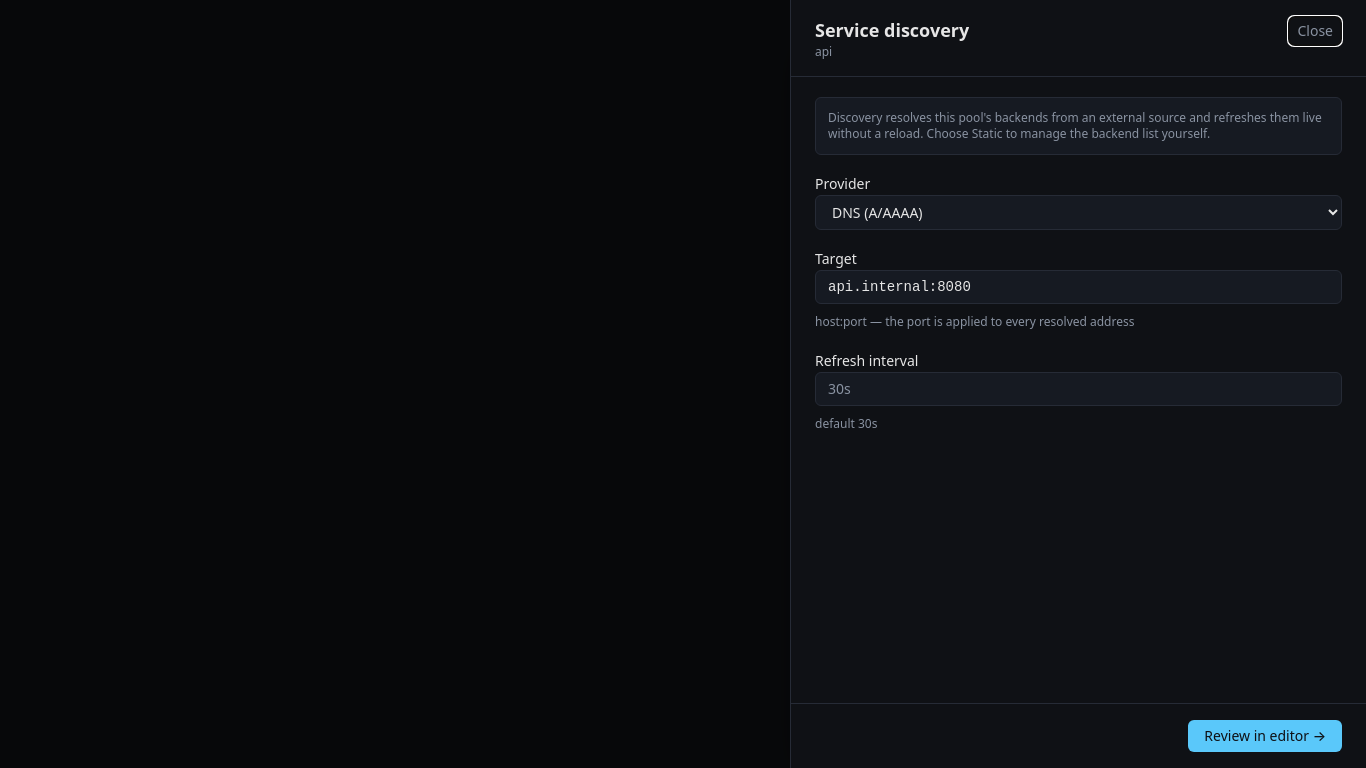
Scenario: DiscoveryEditor › preserves the discovery draft after an authoritative preview rejection
Replace the text in the field labelled "Target" with "replacement.internal:8080": (1078, 287) top-left (815, 270), bottom-right (1342, 304)
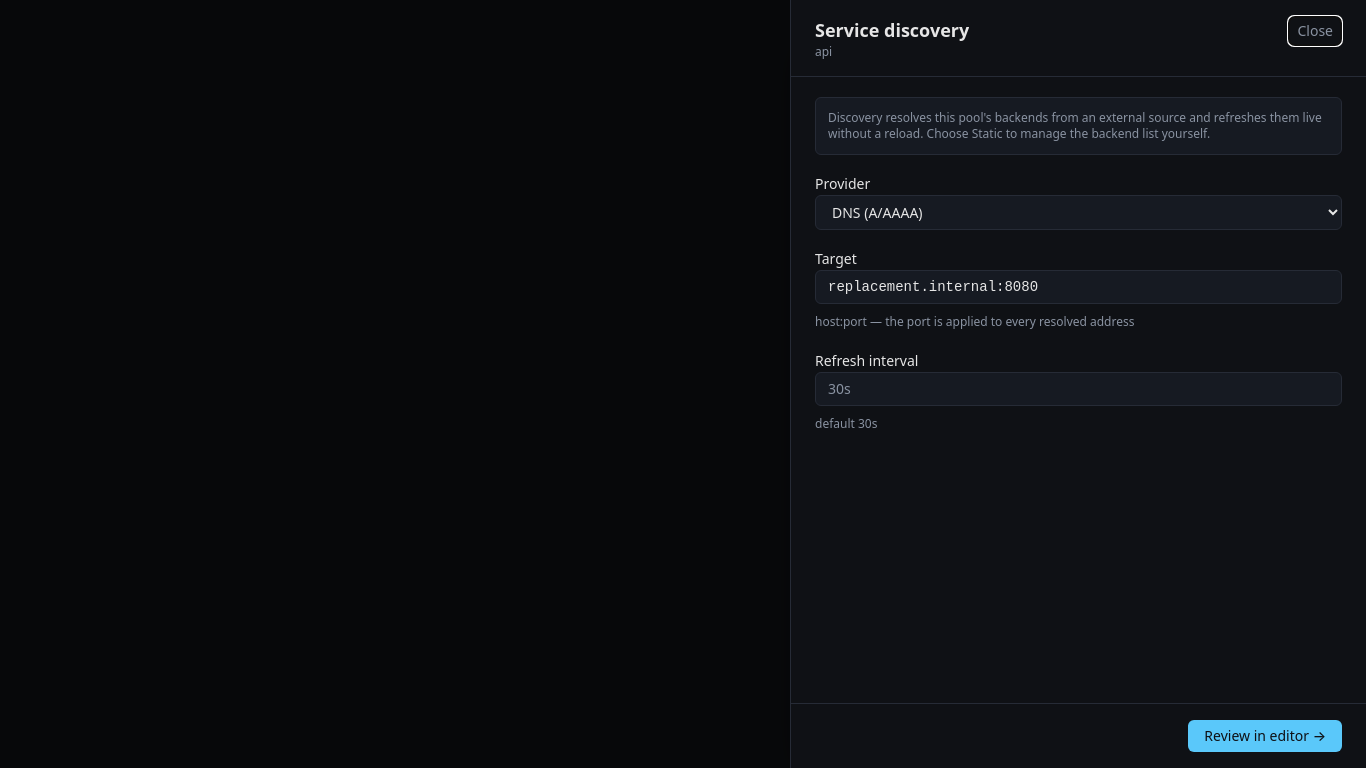
Click the button "Review in editor →": click(1265, 736) top-left (1188, 720), bottom-right (1342, 752)
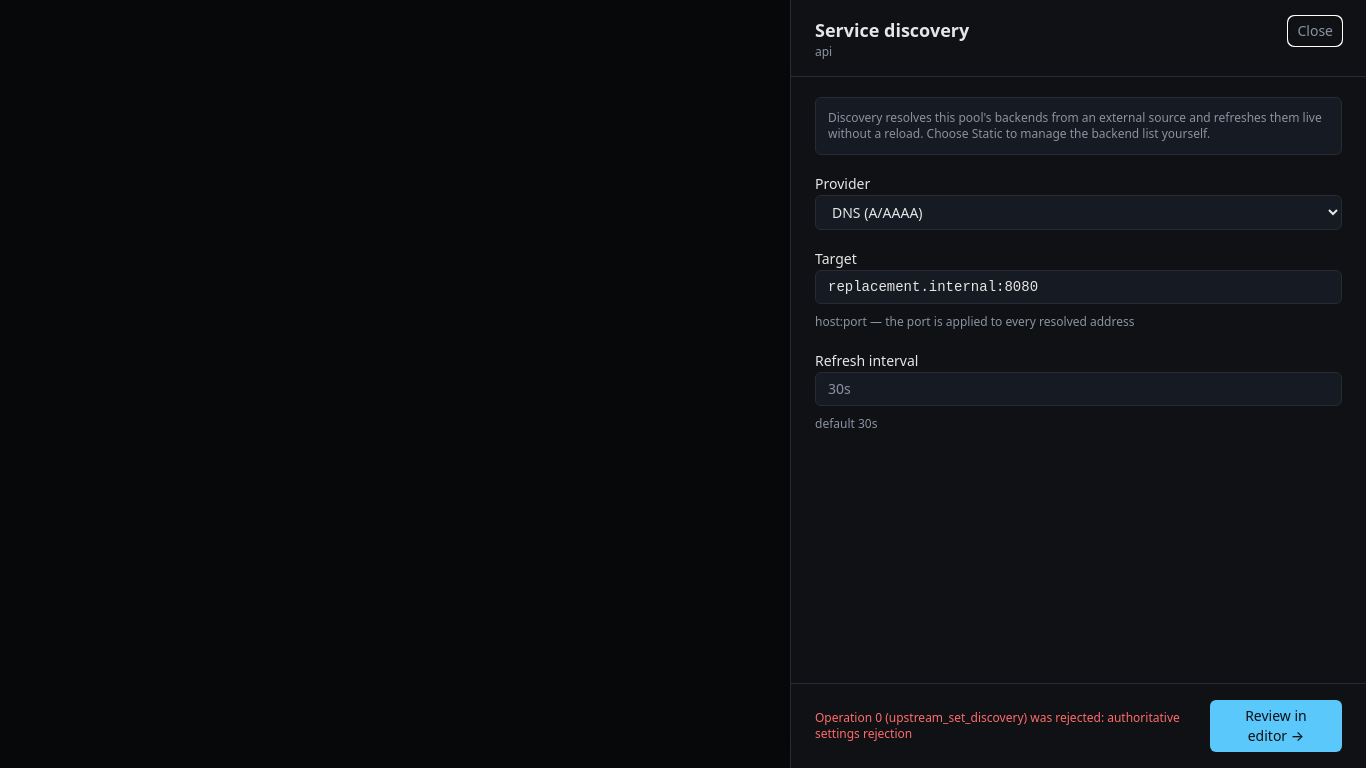
Check: the text "Operation 0 (upstream_set_discovery) was rejected: authoritative settings rejection" is shown, box top-left (815, 709), bottom-right (1180, 742)
